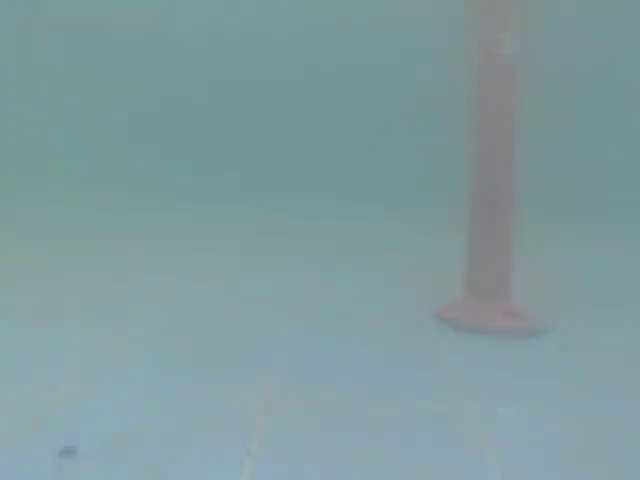flare: (434, 0, 543, 338)
